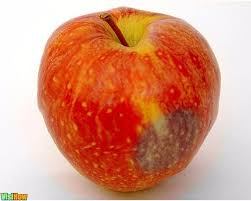damaged_apple: (37, 10, 223, 191)
